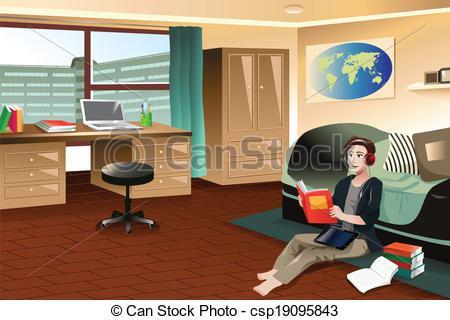chair: (97, 160, 161, 235)
person: (244, 134, 385, 296)
tvmonitor: (78, 97, 144, 134)
